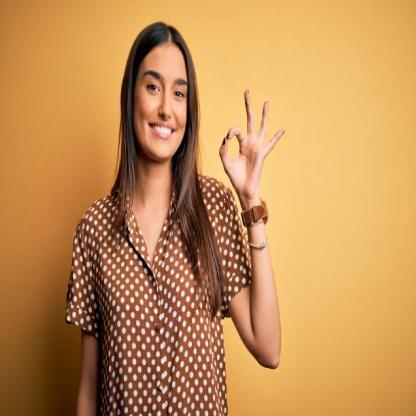ok: (216, 82, 290, 204)
